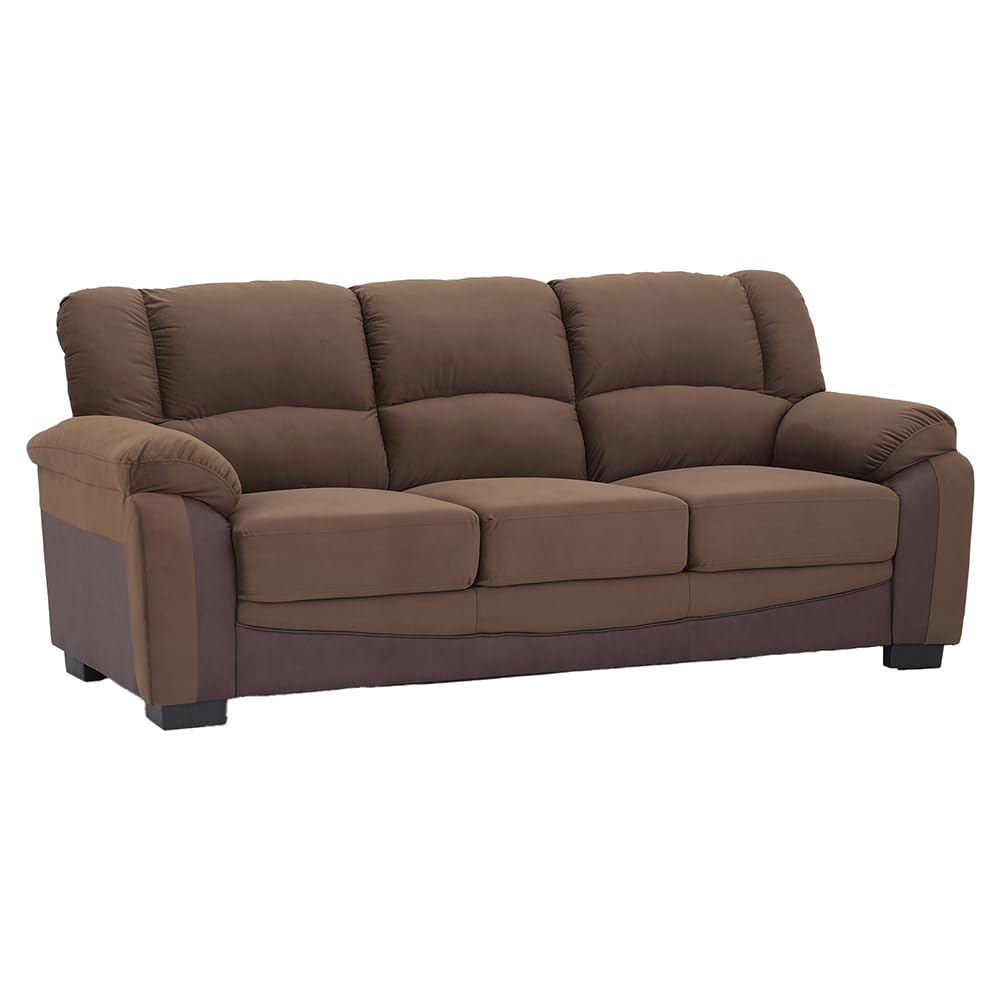3seatersofa: (28, 271, 973, 729)
backrest: (58, 272, 822, 491)
base: (237, 563, 891, 694)
leftarmrest: (774, 392, 973, 642)
leg: (146, 699, 226, 730), (883, 645, 941, 668), (66, 653, 105, 681)
rightarmrest: (30, 416, 239, 704)
seat: (231, 468, 897, 603)
